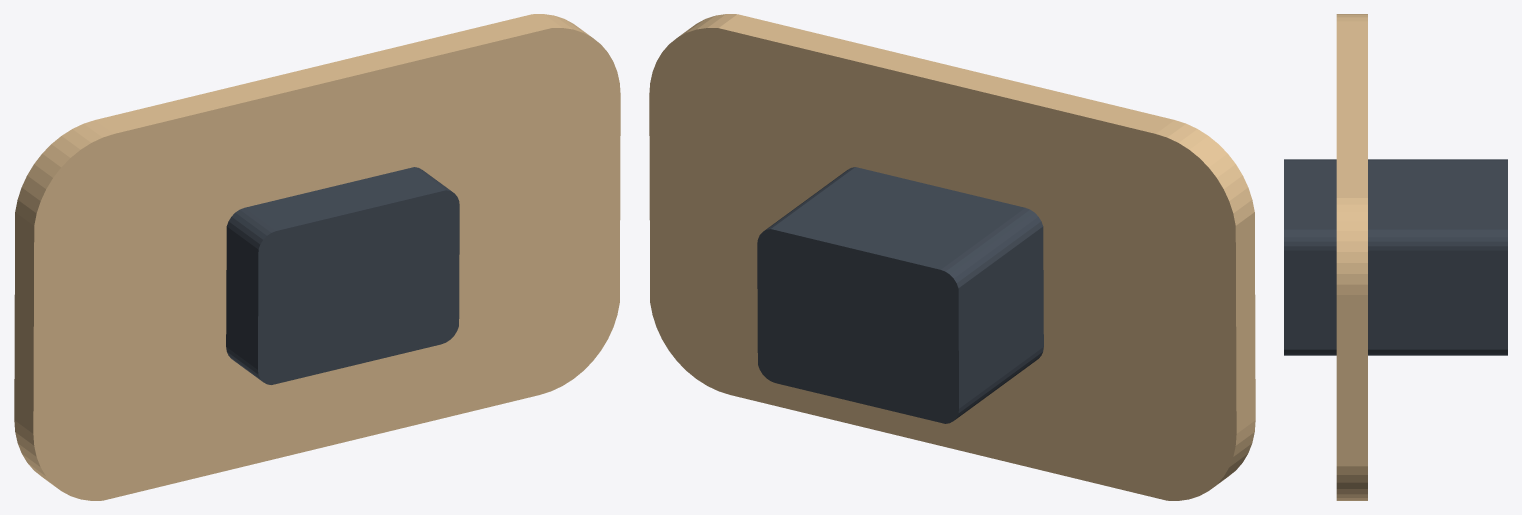
File: MEETING_TABLE_4P_001.glb
The picture shows the model from 3 angles, left to right: view 1: azimuth 30°, elevation 25°; view 2: azimuth 150°, elevation 25°; view 3: azimuth 270°, elevation 25°; orthographic projection. The views are drawn at different scales.
Parts seen in each view (by area): view 1: meeting_table_top_000, pedestal_001; view 2: meeting_table_top_000, pedestal_001; view 3: pedestal_001, meeting_table_top_000.
Boxes of the visible parts, x1,y1,x2,y2 form: meeting_table_top_000: (14,14,620,500); pedestal_001: (226,167,459,384); meeting_table_top_000: (649,14,1255,500); pedestal_001: (757,167,1043,423); pedestal_001: (1284,159,1507,355); meeting_table_top_000: (1336,14,1367,500).
Bounding box in the file's own units: 1.6 × 0.95 × 0.64.
